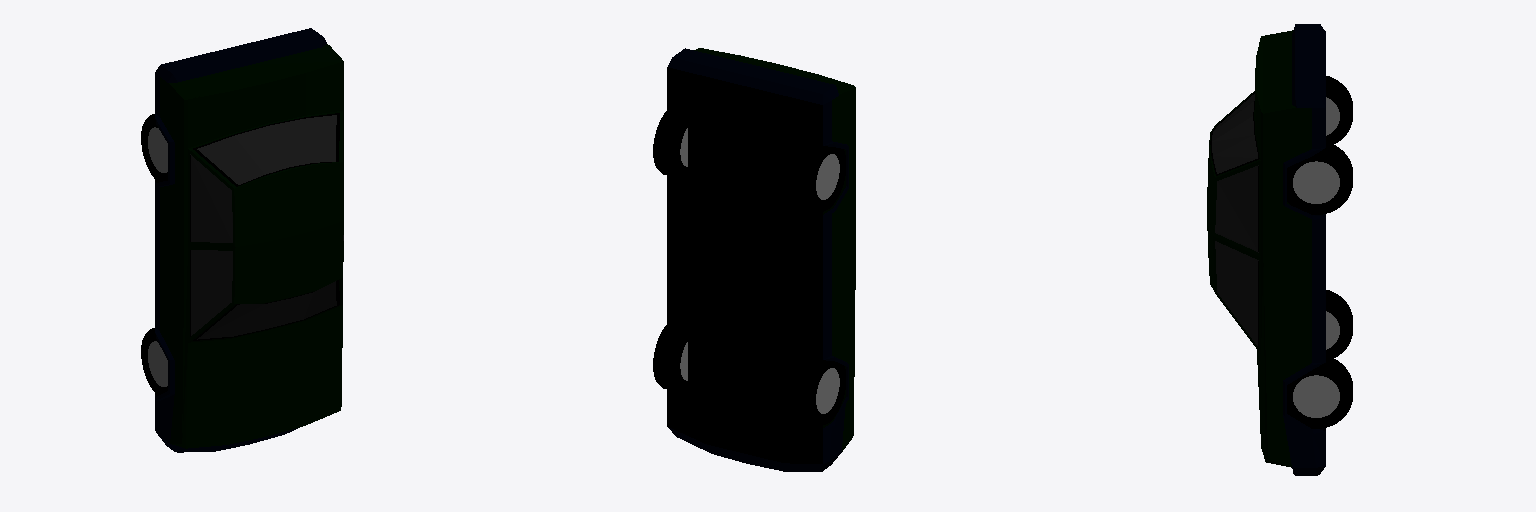
Rendered from car-green1.obj.
The picture shows the model from 3 angles: view 1: azimuth 30°, elevation 25°; view 2: azimuth 150°, elevation 25°; view 3: azimuth 270°, elevation 25°; orthographic projection.
Parts seen in each view (by area): view 1: Car_Cube; view 2: Car_Cube; view 3: Car_Cube.
Part boxes in pixels (x1,y1,x2,y2): Car_Cube: (141,28,343,452); Car_Cube: (653,48,855,471); Car_Cube: (1207,24,1352,475).
Bounding box in the file's own units: 2.1 × 4.67 × 1.59.